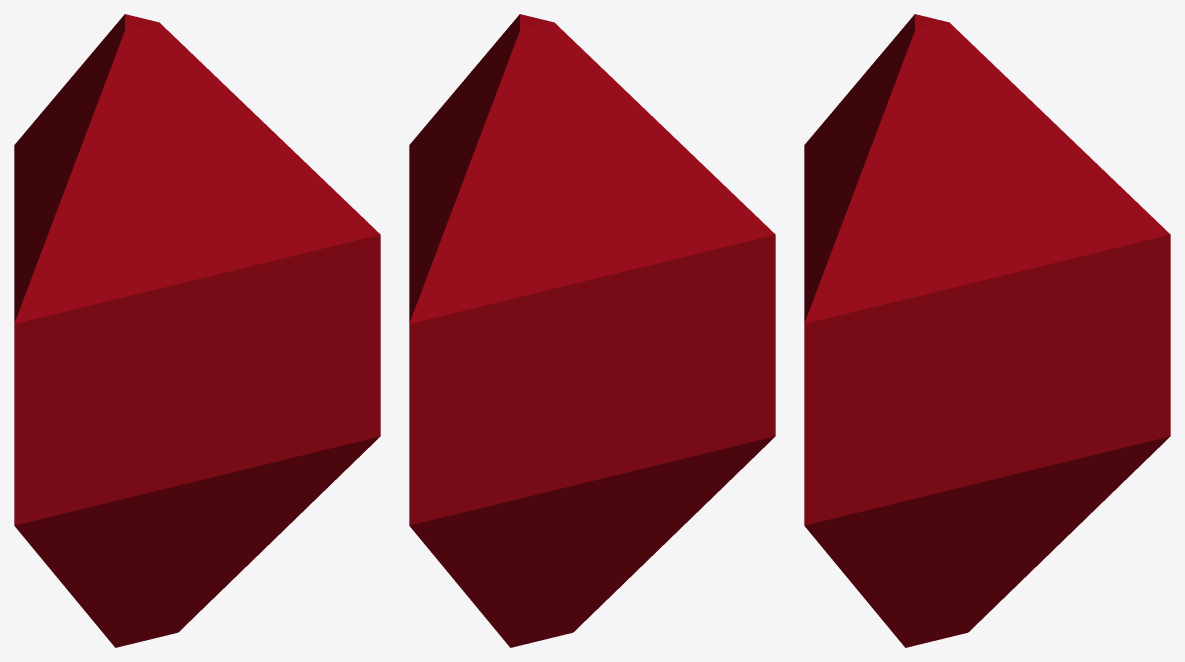
File: crystal.fbx
The picture shows the model from 3 angles, left to right: view 1: azimuth 30°, elevation 25°; view 2: azimuth 150°, elevation 25°; view 3: azimuth 270°, elevation 25°; orthographic projection.
Visible parts, largest first — view 1: Cylinder.001; view 2: Cylinder.001; view 3: Cylinder.001.
Part boxes in pixels (x1,y1,x2,y2): Cylinder.001: [14, 14, 380, 647]; Cylinder.001: [409, 14, 775, 647]; Cylinder.001: [804, 14, 1170, 647].
Bounding box in the file's own units: 60.54 × 96.33 × 52.43.
